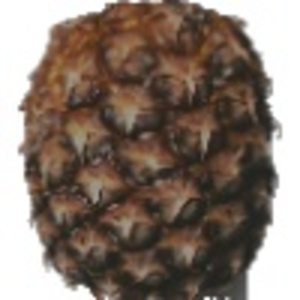abacaxi: (10, 3, 279, 299)
